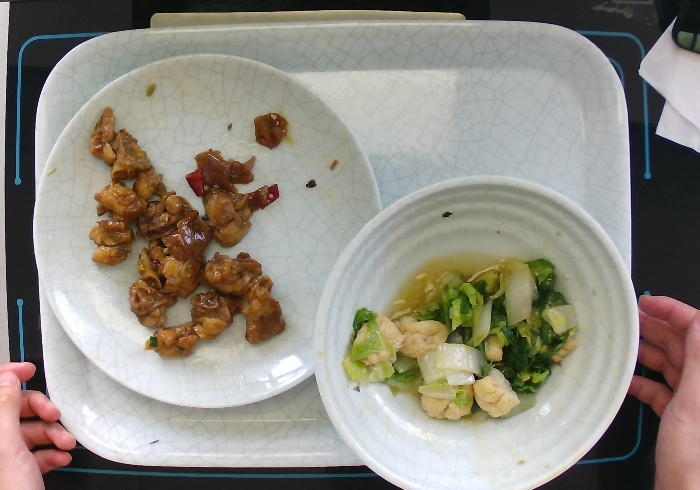JYsf-Da_Tang_Wan: (311, 171, 643, 490)
JYsf-Da_Yuan_Pan: (29, 51, 384, 411)
